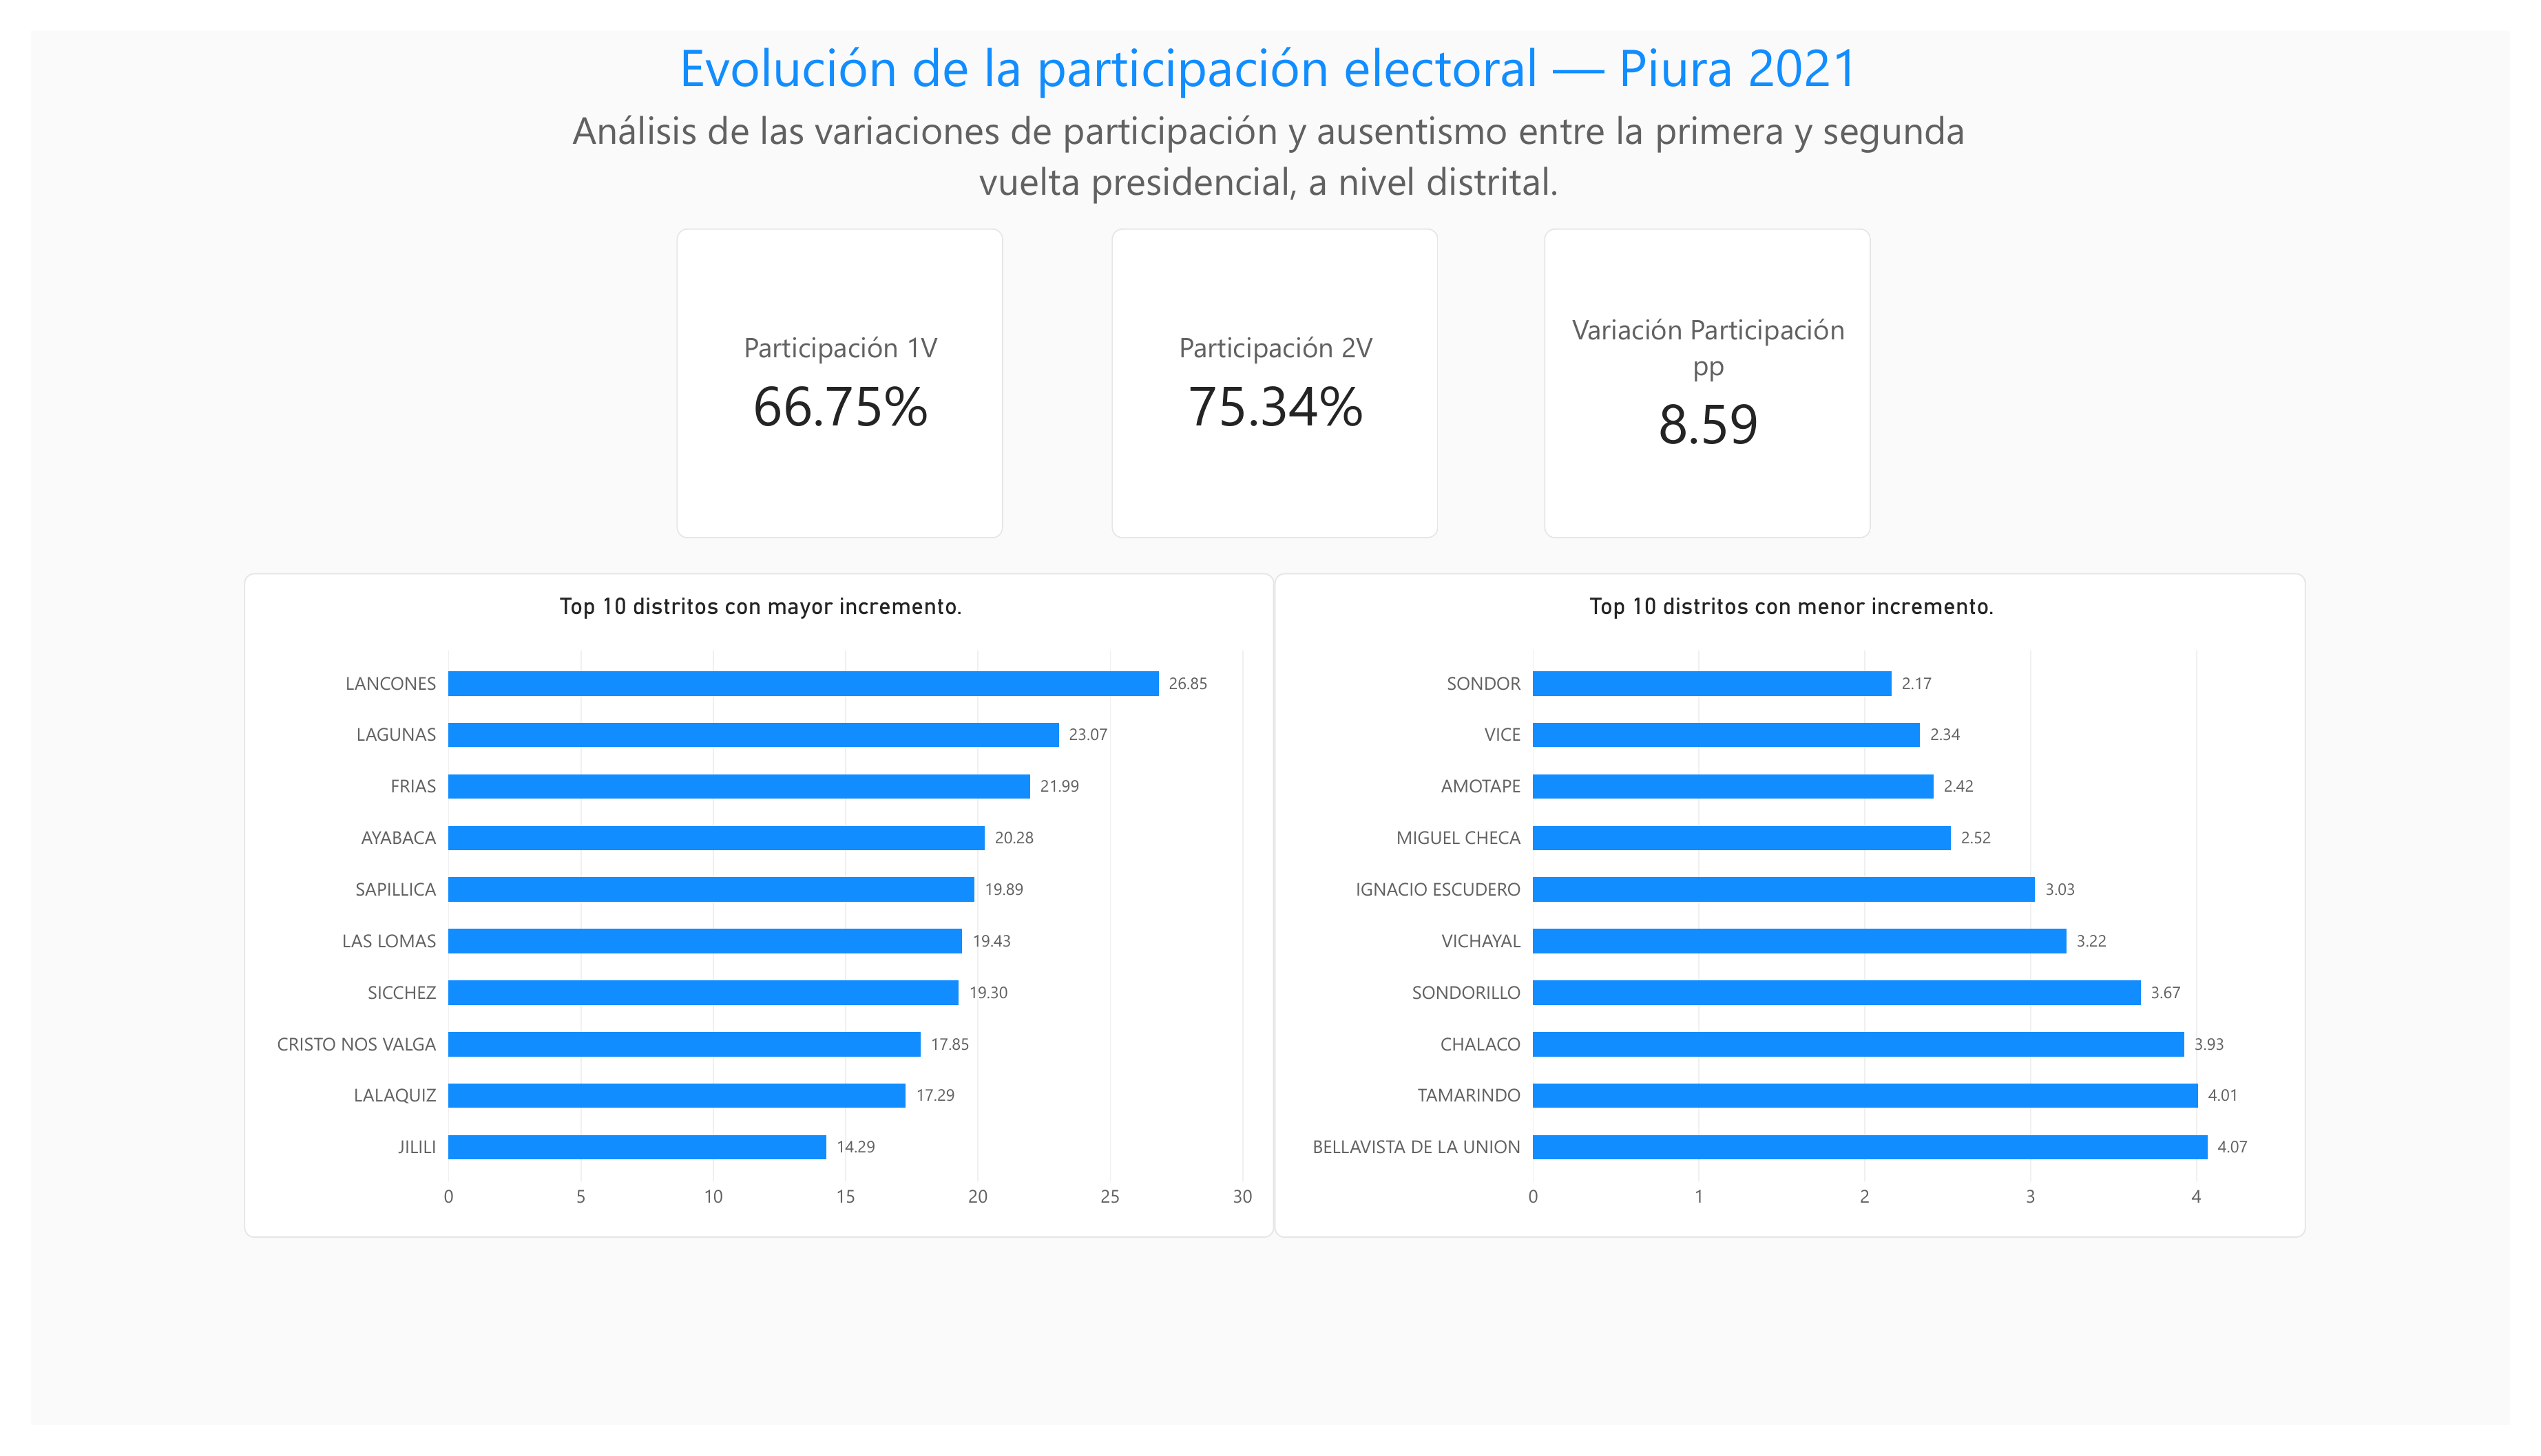

This screenshot's page, from the dashboard's own definition file:
{"tool":"powerbi","page":{"name":"05 — Comparación entre vueltas","canvas":[1920,1080],"ordinal":4},"visuals":[{"type":"textbox","title":"Evolución de la participación electoral — Piura 2021","box":[410,0,1098.3,141.7],"z":0},{"type":"clusteredBarChart","title":"Top 10 distritos con mayor incremento.","fields":{"Category":["DIM_TERRITORIO.DISTRITO"],"Y":["_MEDIDAS.Variación Participación pp"]},"box":[165,420,798.3,515],"z":1000},{"type":"cardVisual","fields":{"Data":["_MEDIDAS.Participación 1V"]},"box":[500,153.3,253.3,240],"z":2000},{"type":"cardVisual","fields":{"Data":["_MEDIDAS.Participación 2V"]},"box":[836.7,153.3,253.3,240],"z":3000},{"type":"cardVisual","fields":{"Data":["_MEDIDAS.Variación Participación pp"]},"box":[1171.7,153.3,253.3,240],"z":4000},{"type":"clusteredBarChart","title":"Top 10 distritos con menor incremento.","fields":{"Category":["DIM_TERRITORIO.DISTRITO"],"Y":["_MEDIDAS.Variación Participación pp"]},"box":[963.3,420,798.3,515],"z":4001}]}

Visuals, with their boxes in screenshot pixels (x1, y1, x2, y2), scaled from the page's 1920x1080 canvas onto the 2541x1456 screenshot:
"Evolución de la participación electoral — Piura 2021" textbox: (x1=543, y1=0, x2=1996, y2=191)
"Top 10 distritos con mayor incremento." clusteredBarChart: (x1=218, y1=566, x2=1275, y2=1260)
cardVisual - _MEDIDAS.Participación 1V: (x1=662, y1=207, x2=997, y2=530)
cardVisual - _MEDIDAS.Participación 2V: (x1=1107, y1=207, x2=1443, y2=530)
cardVisual - _MEDIDAS.Variación Participación pp: (x1=1551, y1=207, x2=1886, y2=530)
"Top 10 distritos con menor incremento." clusteredBarChart: (x1=1275, y1=566, x2=2332, y2=1260)
